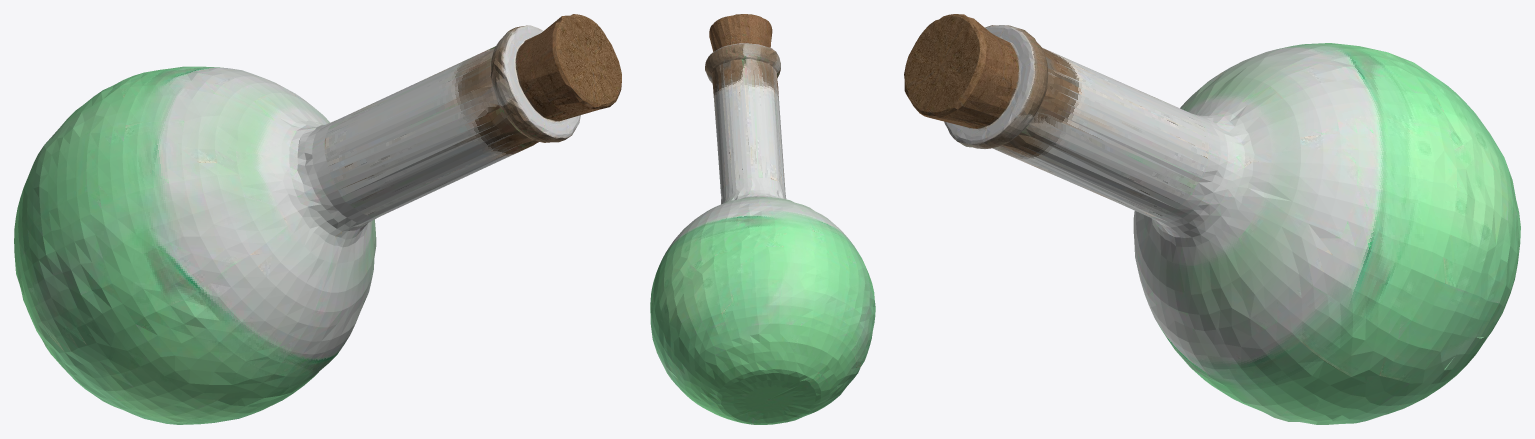
Rendered from ewm_potionflask.glb.
The picture shows the model from 3 angles, left to right: view 1: azimuth 30°, elevation 25°; view 2: azimuth 150°, elevation 25°; view 3: azimuth 270°, elevation 25°; orthographic projection. The views are drawn at different scales.
Parts seen in each view (by area): view 1: ewm_potionflask; view 2: ewm_potionflask; view 3: ewm_potionflask.
Part boxes in pixels (x1,y1,x2,y2): ewm_potionflask: (14, 14, 621, 424); ewm_potionflask: (650, 14, 875, 424); ewm_potionflask: (904, 14, 1520, 424).
Size of the model in its own units: 0.123 by 0.1335 by 0.1509.
Materials: 1 (1 with a texture image).
